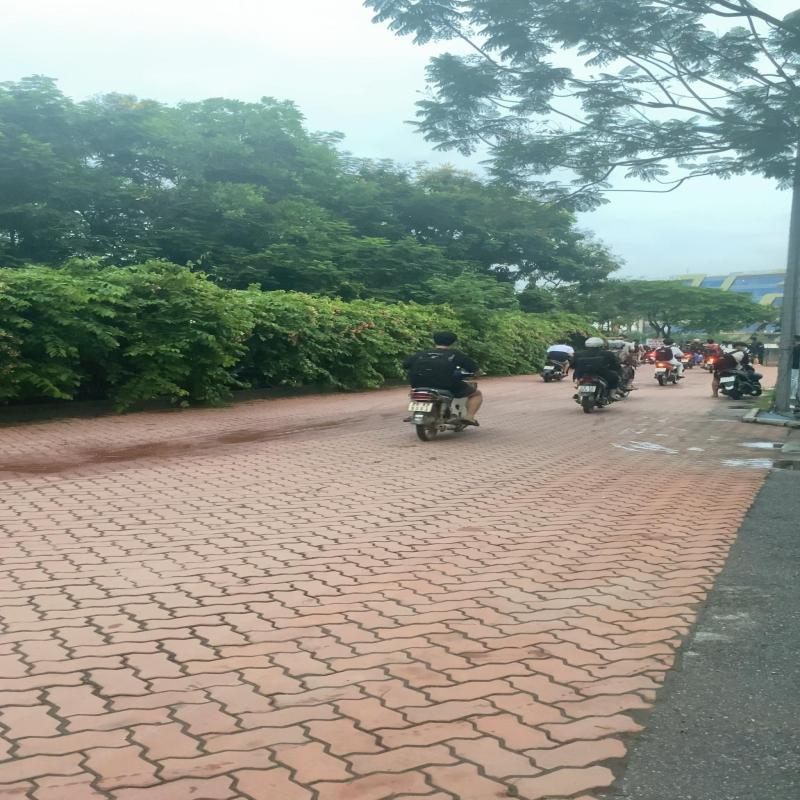licenseplate: (408, 401, 432, 412)
motorcyclist: (400, 332, 489, 442)
nohelmet: (434, 332, 458, 347)
